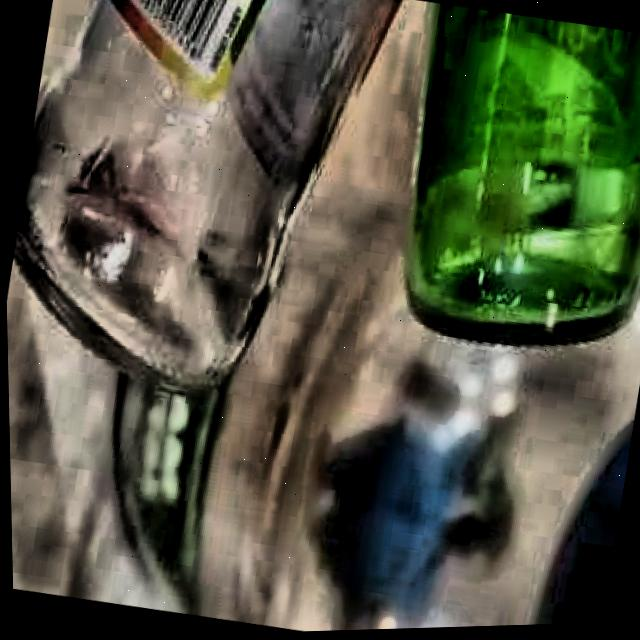glass: (11, 0, 399, 385)
